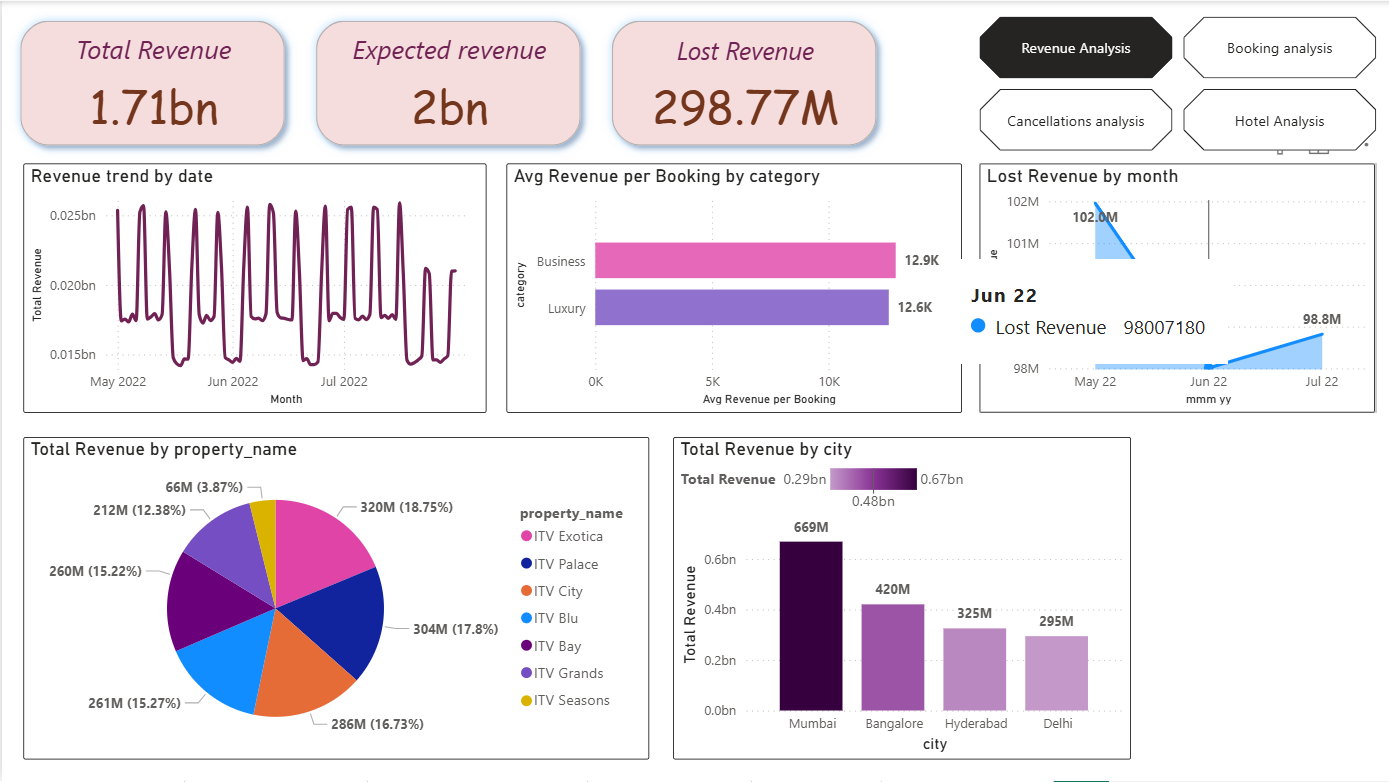

Layout of this report page (visuals, bound fields, positions):
{"tool":"powerbi","page":{"name":"Revenue Analysis","canvas":[1280,720],"ordinal":0},"visuals":[{"type":"cardVisual","fields":{"Data":["revenue measure.Total Revenue","revenue measure.Expected revenue","revenue measure.Lost Revenue"]},"box":[0,0,825,150],"z":0},{"type":"lineChart","title":"Revenue trend by date","fields":{"Y":["revenue measure.Total Revenue"],"Category":["dim_date.date"]},"box":[20,150,427.5,230],"z":1000},{"type":"columnChart","fields":{"Y":["revenue measure.Total Revenue"],"Category":["dim_hotels.city"]},"box":[620,402.5,422.5,297.5],"z":2000},{"type":"pieChart","fields":{"Category":["dim_hotels.property_name"],"Y":["revenue measure.Total Revenue"]},"box":[19.7,402.4,577.3,297.2],"z":3000},{"type":"clusteredBarChart","fields":{"Y":["revenue measure.Avg Revenue per Booking"],"Category":["dim_hotels.category"]},"box":[465,150,420,230],"z":4000},{"type":"areaChart","title":"Lost Revenue by month","fields":{"Y":["revenue measure.Lost Revenue"],"Category":["dim_date.mmm yy"]},"box":[902.5,150,365,230],"z":5000},{"type":"pageNavigator","box":[902,14,366,124],"z":6000}]}

Visuals, with their boxes in screenshot pixels (x1, y1, x2, y2), scaled from the page's 1280x720 canvas onto the 1389x782 screenshot:
cardVisual - revenue measure.Total Revenue x revenue measure.Expected revenue: x1=0, y1=0, x2=895, y2=163
"Revenue trend by date" lineChart: x1=22, y1=163, x2=486, y2=413
columnChart - revenue measure.Total Revenue x dim_hotels.city: x1=673, y1=437, x2=1131, y2=760
pieChart - dim_hotels.property_name x revenue measure.Total Revenue: x1=21, y1=437, x2=648, y2=760
clusteredBarChart - revenue measure.Avg Revenue per Booking x dim_hotels.category: x1=505, y1=163, x2=960, y2=413
"Lost Revenue by month" areaChart: x1=979, y1=163, x2=1375, y2=413
pageNavigator: x1=979, y1=15, x2=1376, y2=150
